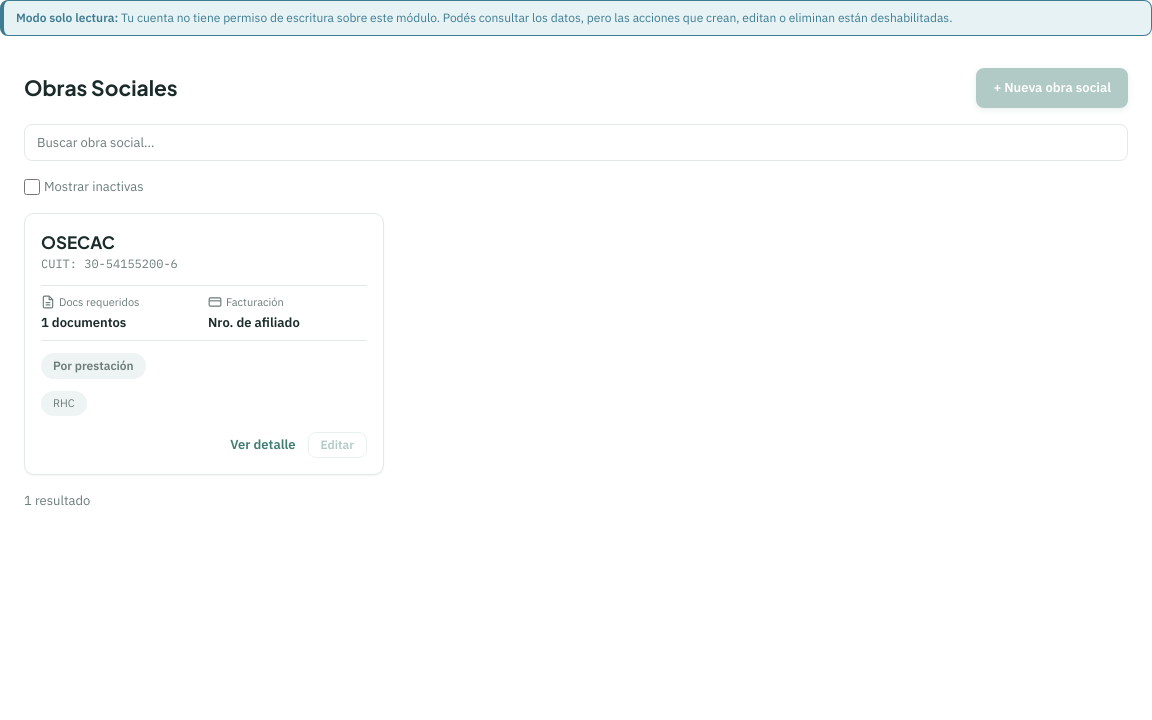
Scenario: ObraSocialesPage — gateo de escritura › sin permiso de escritura: muestra el aviso también en el detalle
This screenshot has width=1152, height=720.
Note: "Editar" queda deshabilitado por el gateo — se navega al detalle por la fila, no por el botón.
Click the heading "OSECAC" at (78, 242), box [41,230,115,252]
(page scrolled)
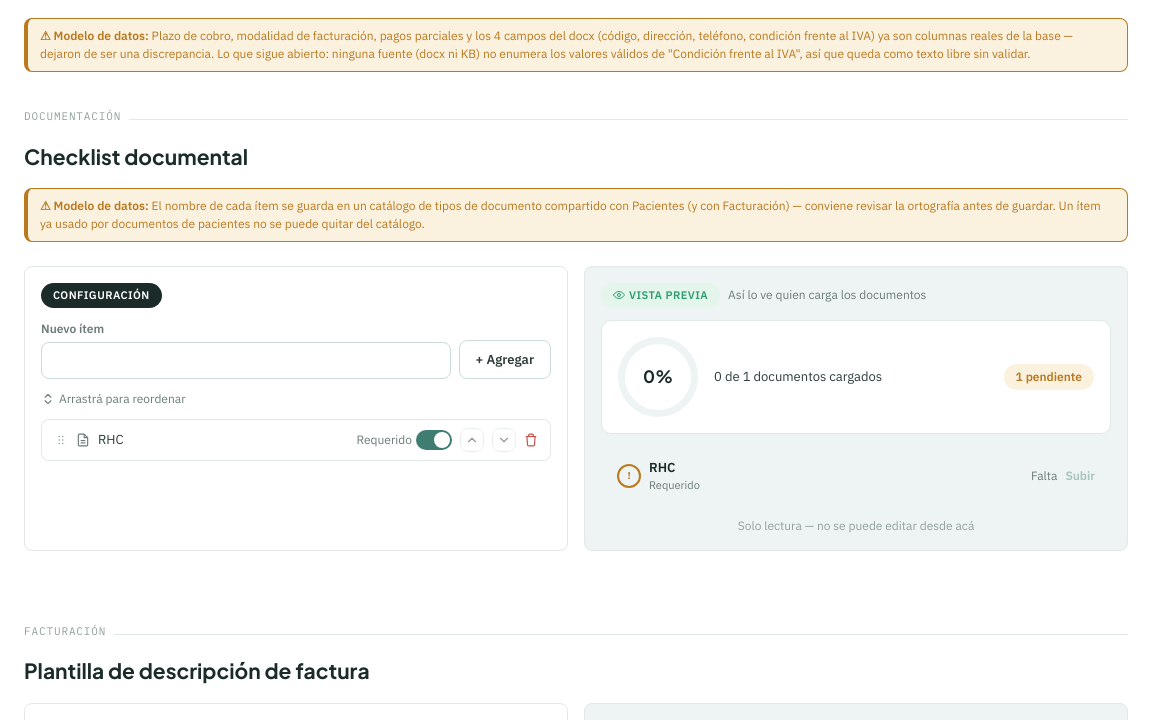
expect the field labelled "Nuevo ítem" is shown: met, box [41,342,451,379]
